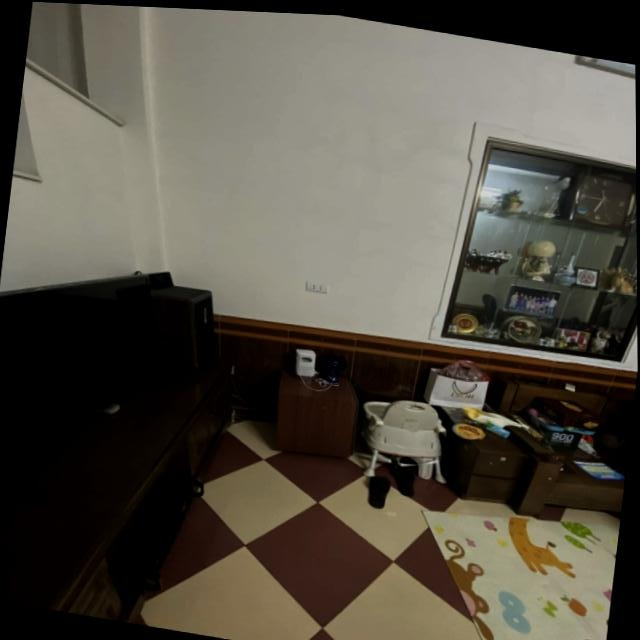outlet: (304, 281, 328, 296)
